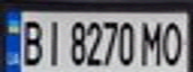0: (118, 17, 139, 68)
2: (84, 17, 106, 68)
7: (103, 17, 121, 68)
8: (66, 16, 87, 68)
B: (15, 16, 48, 68)
I: (39, 16, 66, 68)
M: (139, 17, 166, 68)
O: (157, 17, 190, 68)
